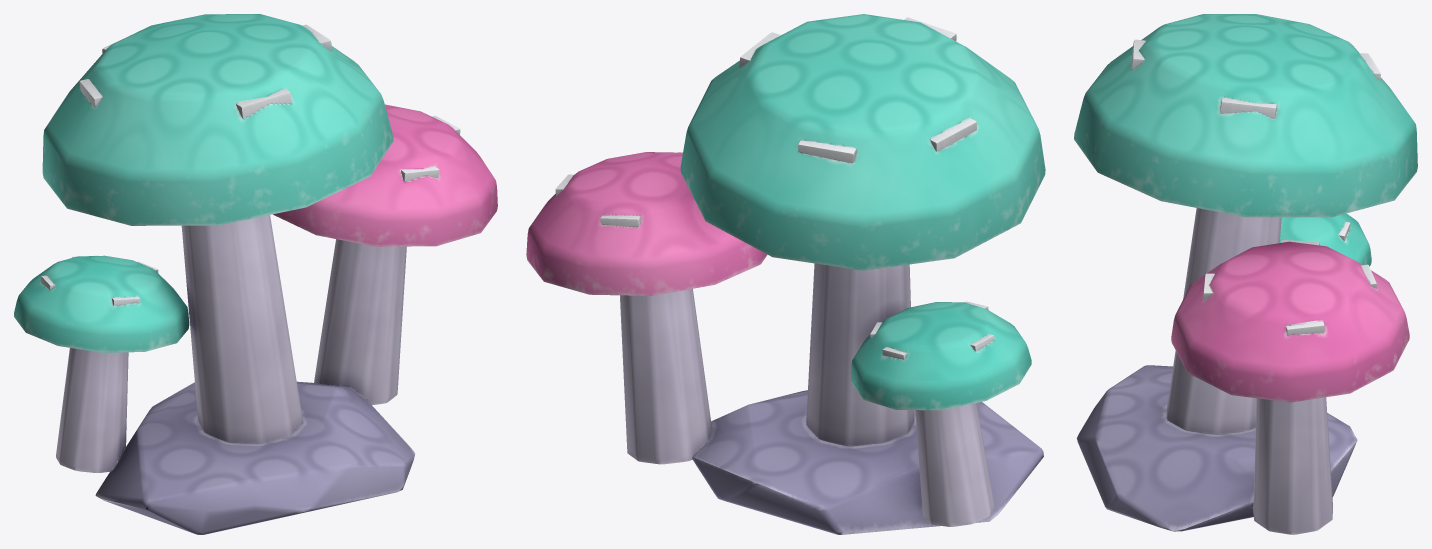
File: Cosmos_Champignon.fbx
The picture shows the model from 3 angles, left to right: view 1: azimuth 30°, elevation 25°; view 2: azimuth 150°, elevation 25°; view 3: azimuth 270°, elevation 25°; orthographic projection. The views are drawn at different scales.
Visible parts, largest first — view 1: Cosmos_Champignon; view 2: Cosmos_Champignon; view 3: Cosmos_Champignon.
Boxes of the visible parts, x1,y1,x2,y2 form: Cosmos_Champignon: [14, 14, 497, 534]; Cosmos_Champignon: [526, 14, 1045, 534]; Cosmos_Champignon: [1074, 14, 1417, 534].
Size of the model in its own units: 775 by 694 by 515.
1 material, 1 textured.
